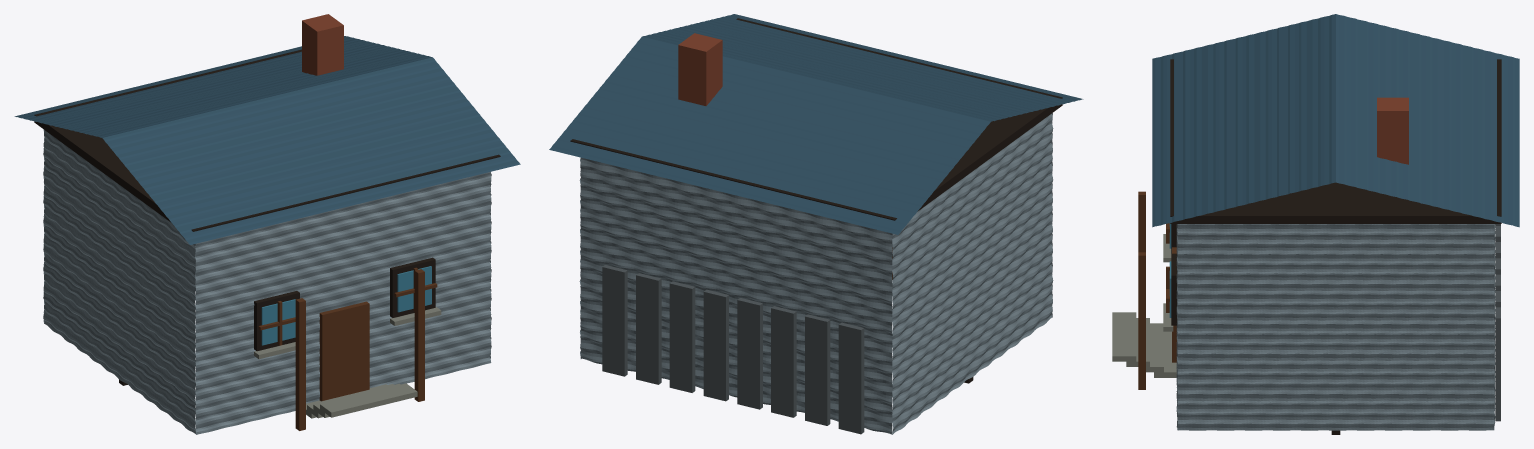
The model's file is harbor_warehouse_02.obj.
The picture shows the model from 3 angles, left to right: view 1: azimuth 30°, elevation 25°; view 2: azimuth 150°, elevation 25°; view 3: azimuth 270°, elevation 25°; orthographic projection. The views are drawn at different scales.
Parts seen in each view (by area): view 1: harbor_warehouse_02; view 2: harbor_warehouse_02; view 3: harbor_warehouse_02.
Boxes of the visible parts, x1,y1,x2,y2 form: harbor_warehouse_02: (14, 14, 520, 434); harbor_warehouse_02: (549, 14, 1083, 434); harbor_warehouse_02: (1112, 14, 1519, 434).
Size of the model in its own units: 8.06 by 6.66 by 8.23.
